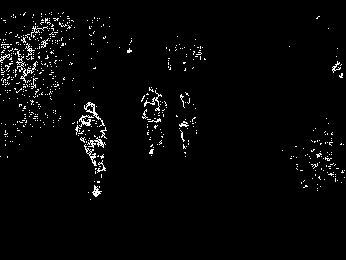person: (72, 100, 109, 198), (139, 82, 167, 155), (173, 89, 199, 156)
